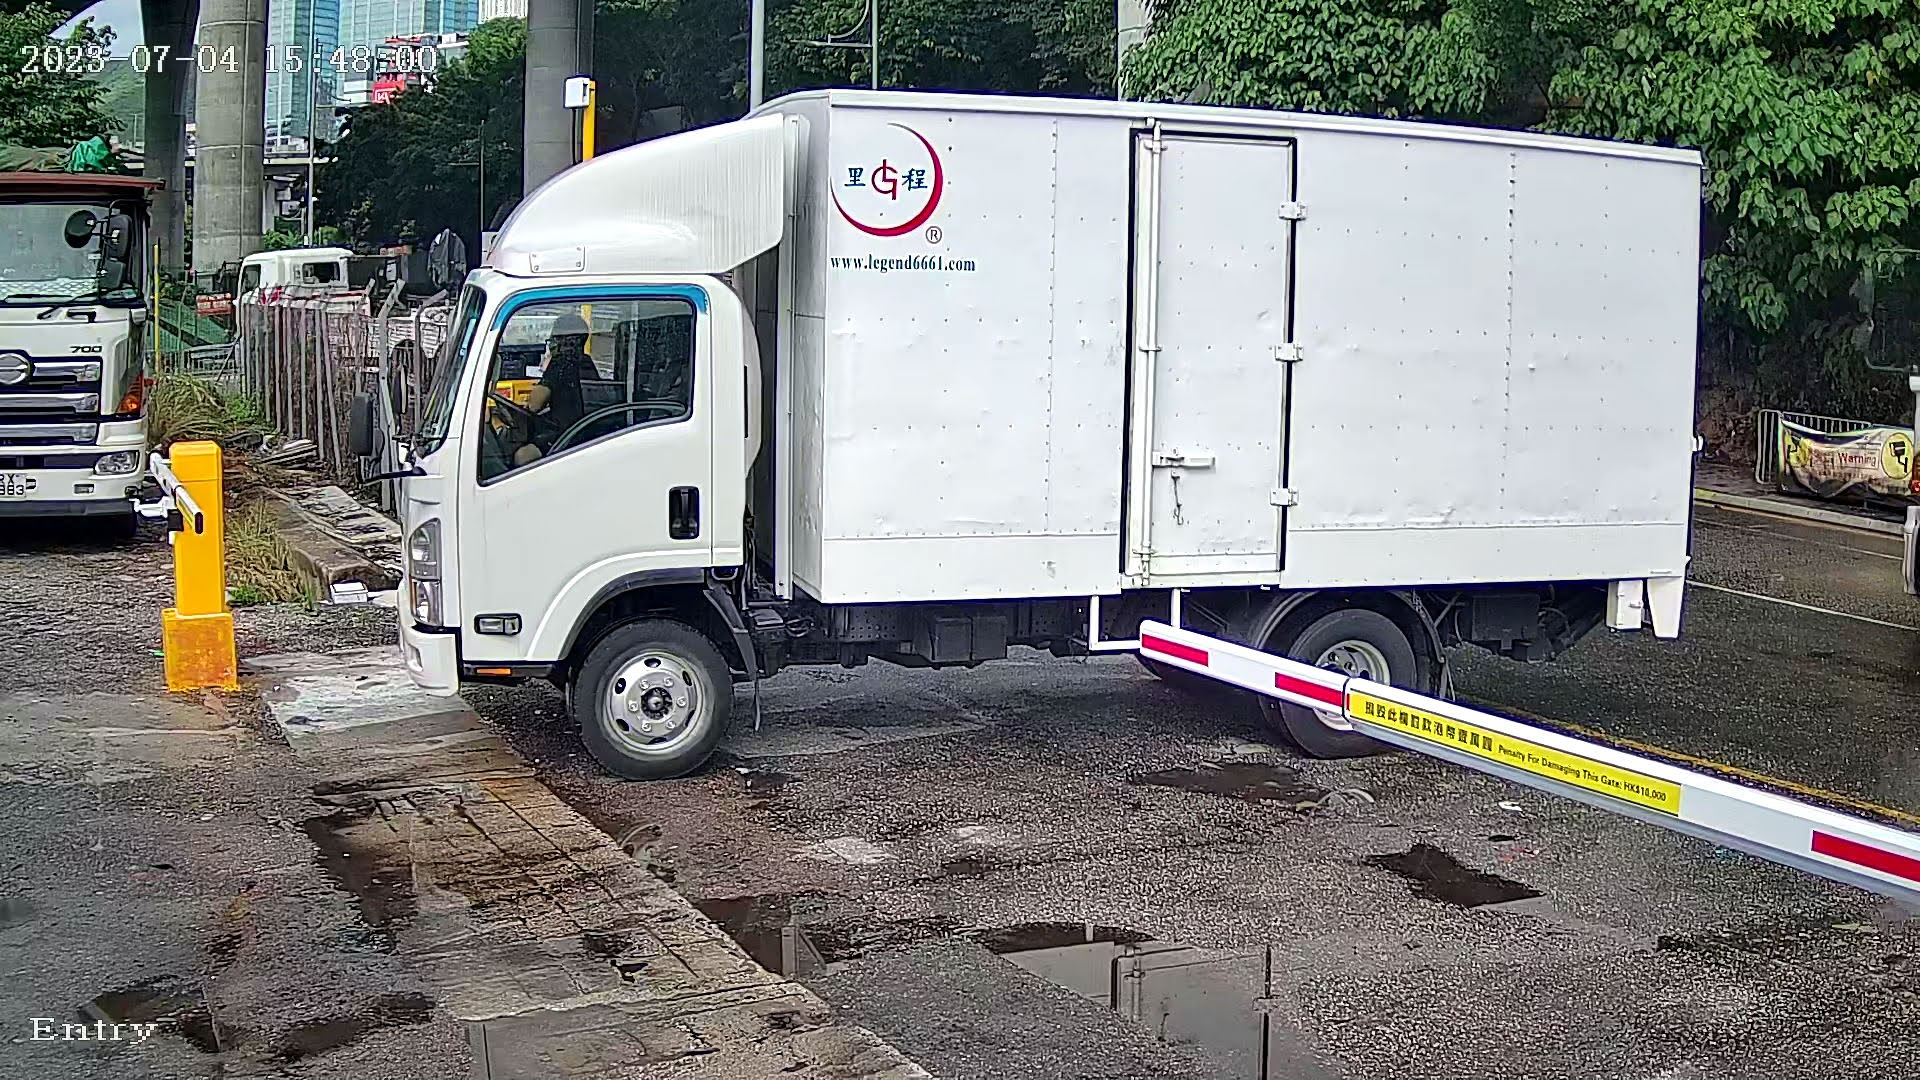truck: (371, 76, 1734, 793)
